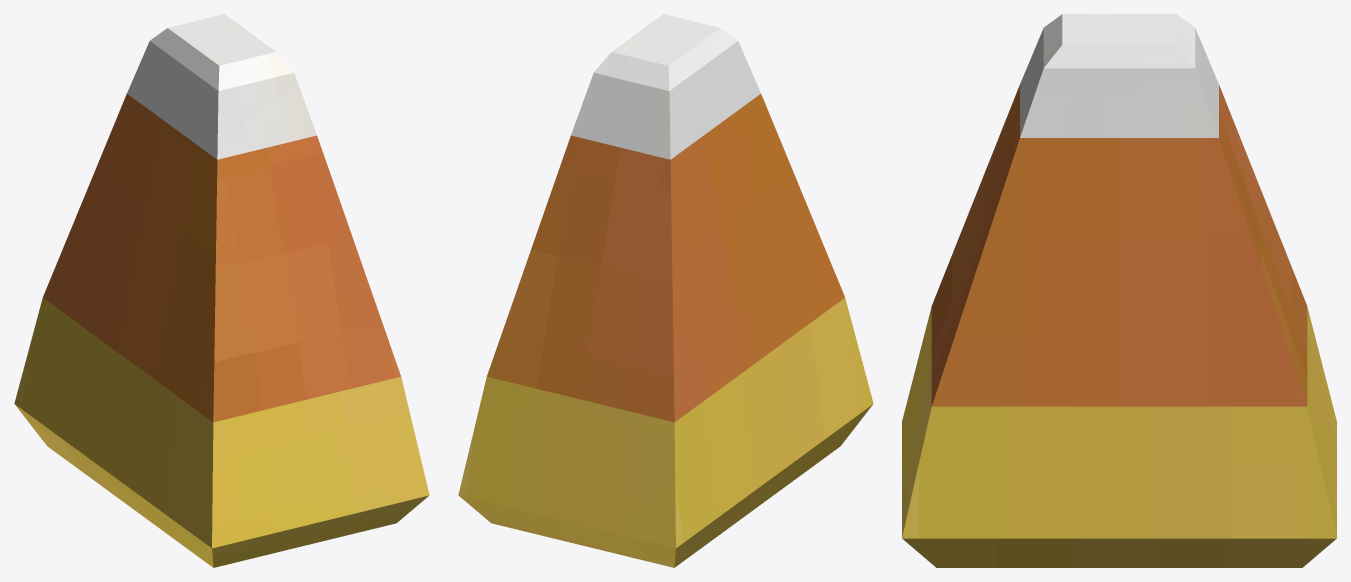
Rendered from 381a2e97-50ae-4557-845c-68320c0cdf7d.glb.
The picture shows the model from 3 angles, left to right: view 1: azimuth 30°, elevation 25°; view 2: azimuth 150°, elevation 25°; view 3: azimuth 270°, elevation 25°; orthographic projection. The views are drawn at different scales.
Parts seen in each view (by area): view 1: Cube.008_Cube.006; view 2: Cube.008_Cube.006; view 3: Cube.008_Cube.006.
Boxes of the visible parts, <box> form: Cube.008_Cube.006: <box>14,14,429,567</box>; Cube.008_Cube.006: <box>458,14,873,567</box>; Cube.008_Cube.006: <box>902,14,1336,567</box>.
Size of the model in its own units: 0.1592 by 0.311 by 0.2504.
Materials: 1 (1 with a texture image).
